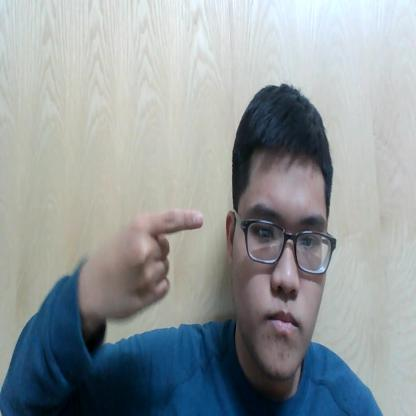left: (90, 199, 204, 344)
